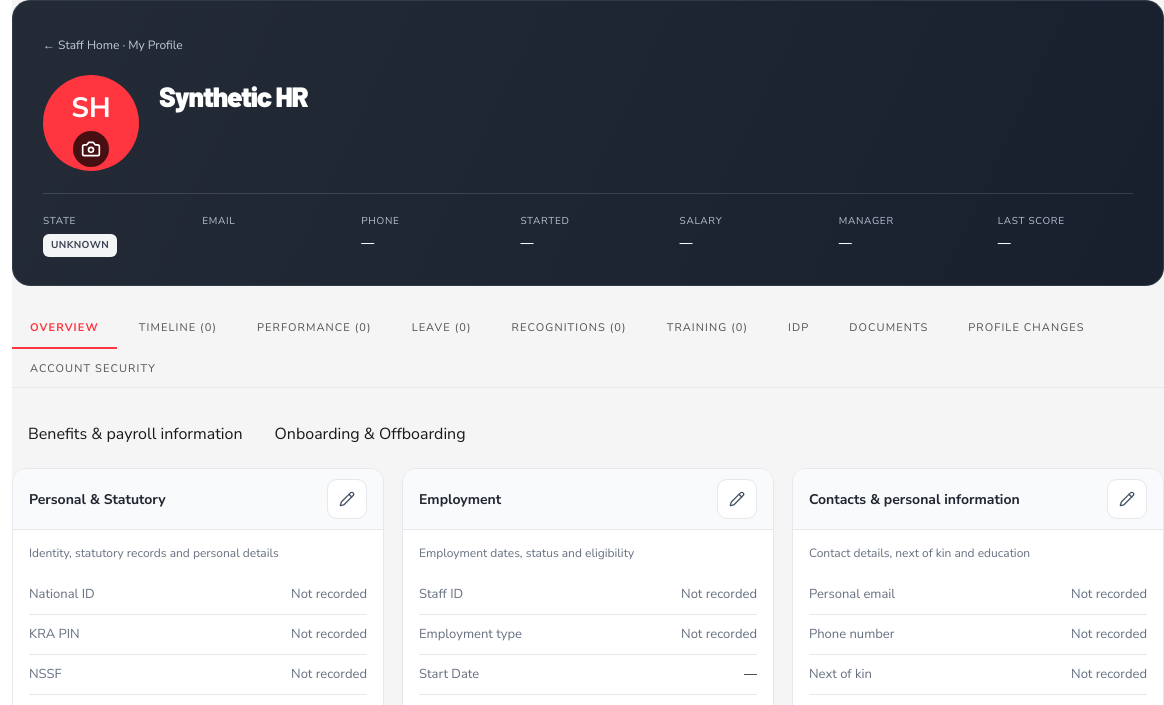
Scenario: HR uses the review inbox and bank approval remains pending Finance
The width and height of the screenshot is (1164, 705).
Click the button "Profile changes". click: coordinates (1026, 329)
box: [950,310,1103,348]
(page scrolled)
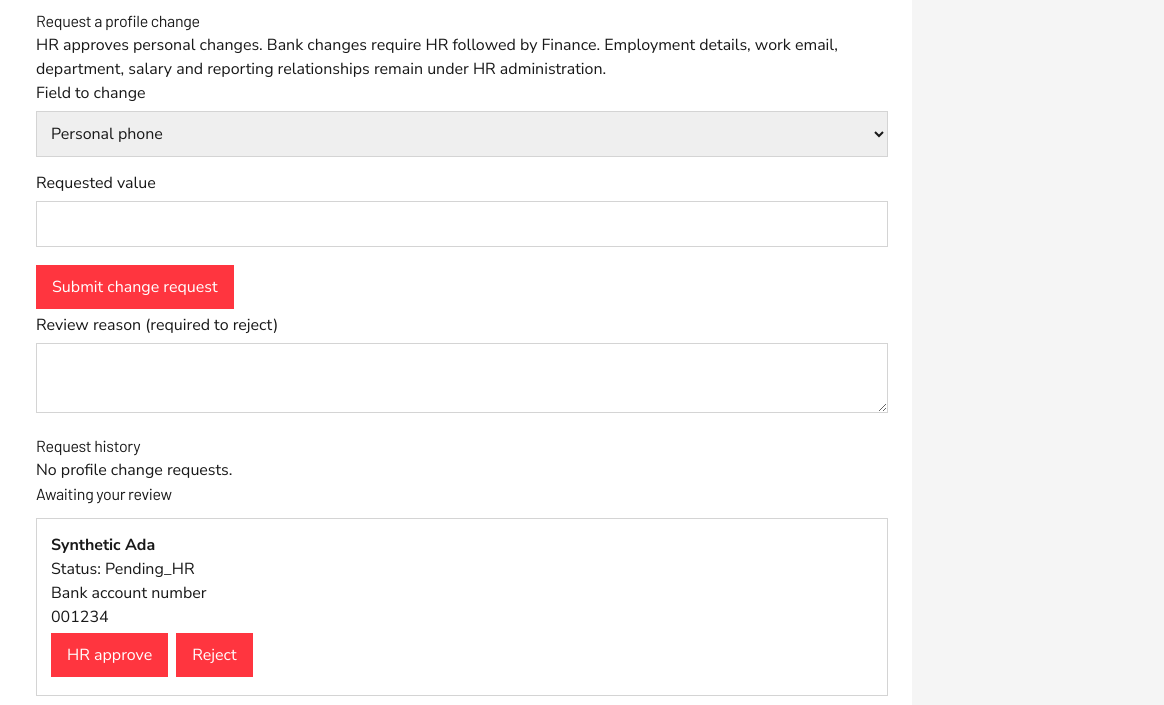
Expected: the button "HR approve" is shown
Click the button "HR approve". click: coordinates (110, 655)
box: [51,633,168,677]
(page scrolled)
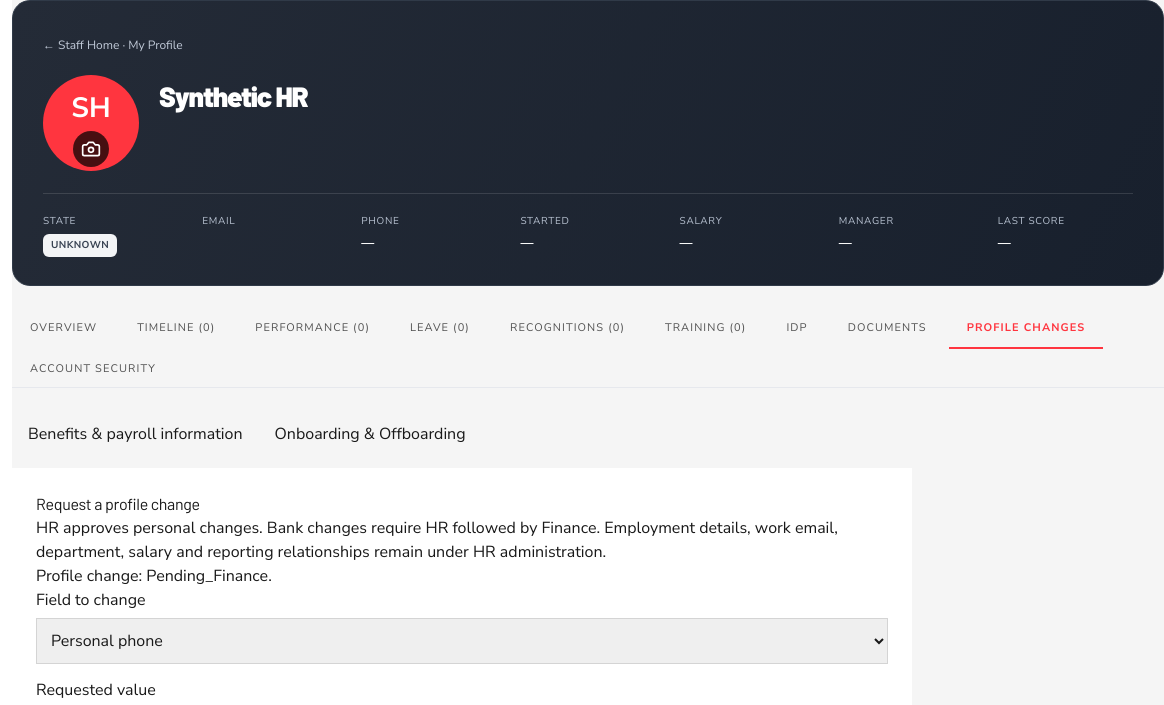
Expected: the text "Pending_Finance" is shown, [36,565,272,587]
